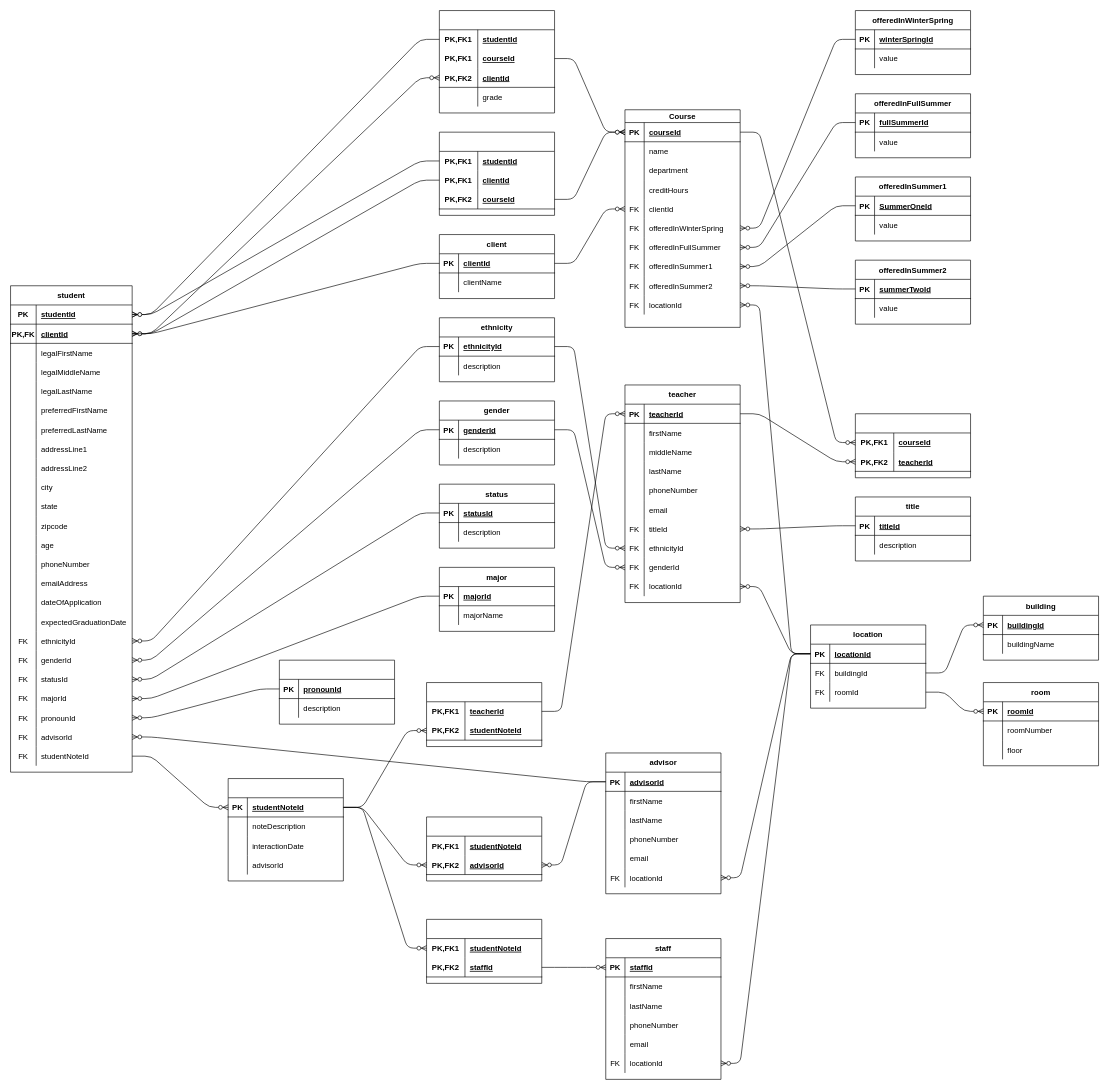
Some shapes in this 1109 by 1090 pixel diagram are drawn without their labels. Each missing label, with the box of its shape:
courseTeacher: (855, 413, 971, 478)
preferredPronouns: (279, 660, 395, 724)
studentCourse: (439, 132, 555, 215)
studentCourseGrade: (439, 10, 555, 113)
studentNotes: (228, 778, 343, 881)
studentNotesAdvisor: (426, 816, 542, 881)
studentNotesStaff: (426, 919, 542, 983)
studentNotesTeacher: (426, 682, 542, 747)
